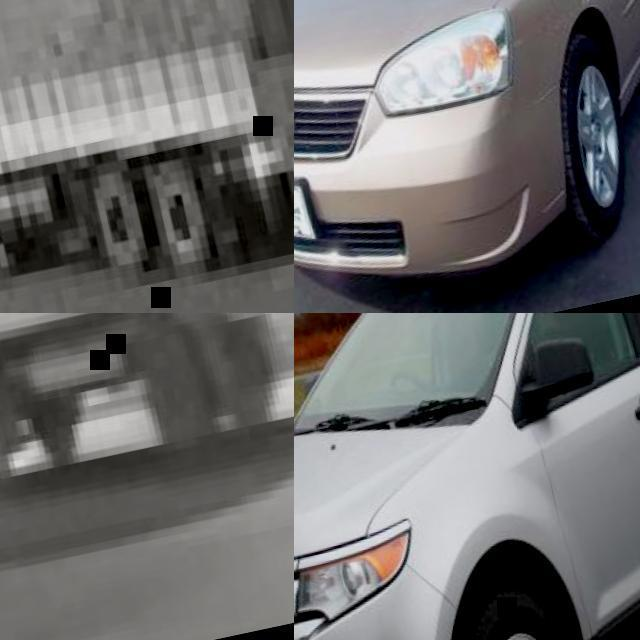car: (292, 313, 639, 639), (294, 0, 590, 280)
